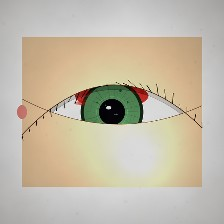hemorrhage_spot: (61, 56, 162, 136)
